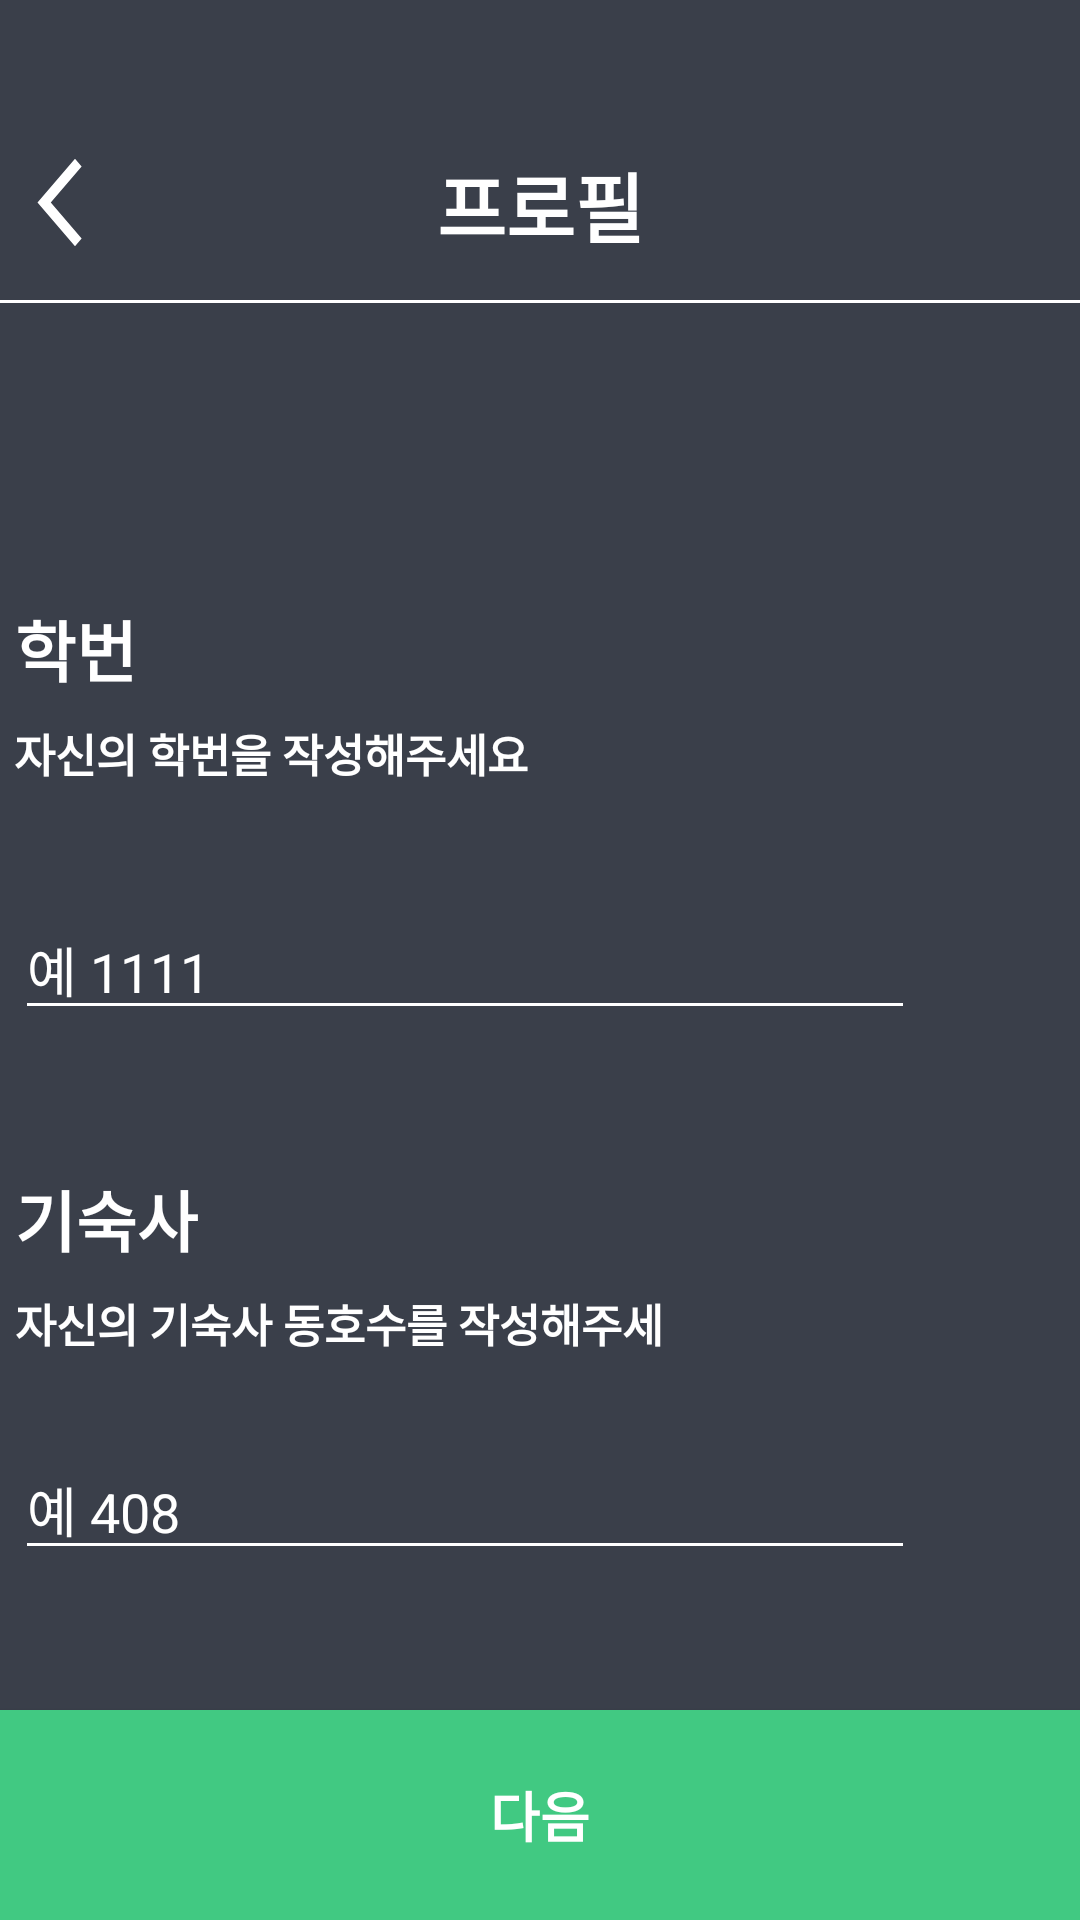

Locate icon controls on the screen. Image size 1080x1920, boxes as bbox=(x1, y1, x2, y2).
arrow back: bbox=(37, 159, 82, 246)
